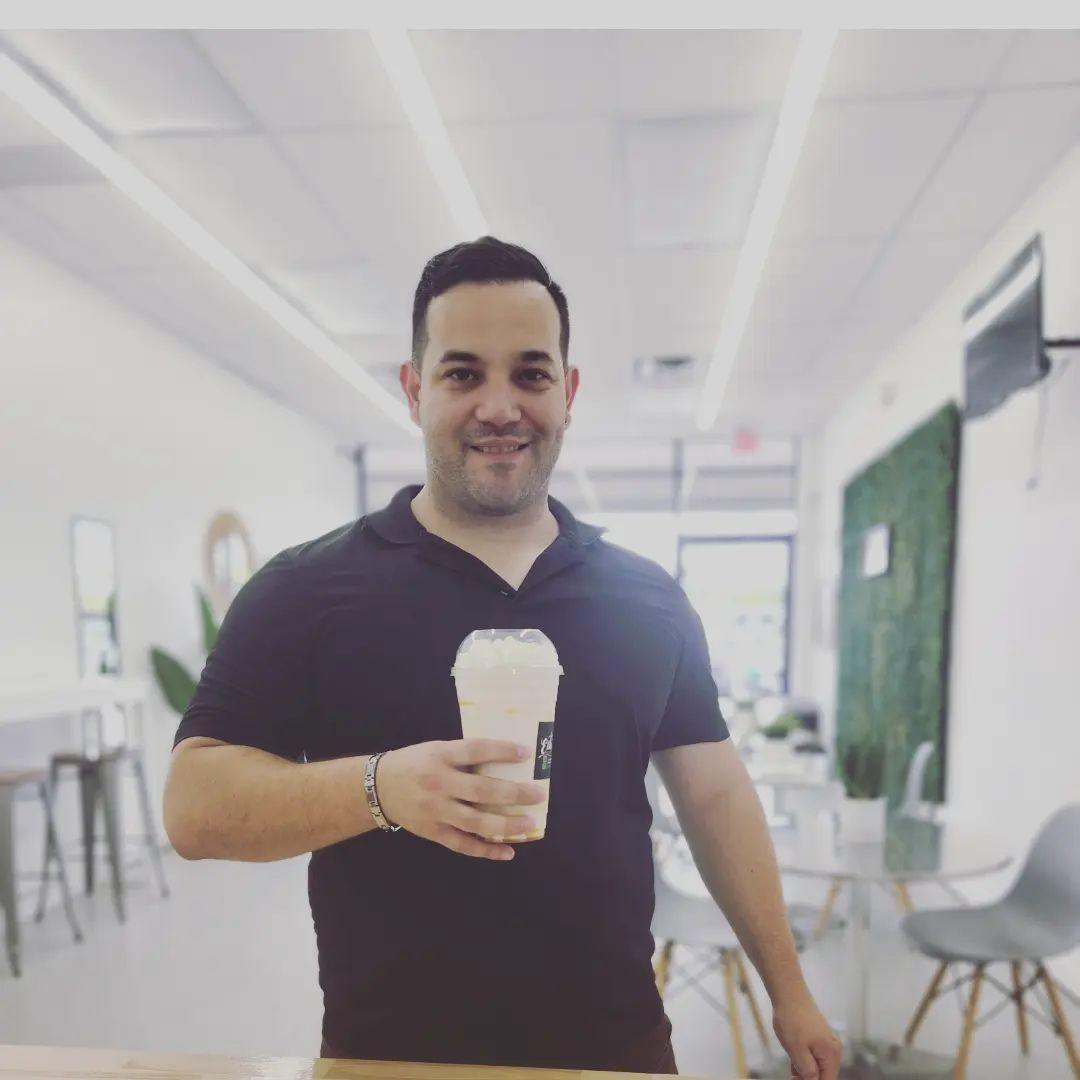cup-disposable: (448, 625, 565, 845)
